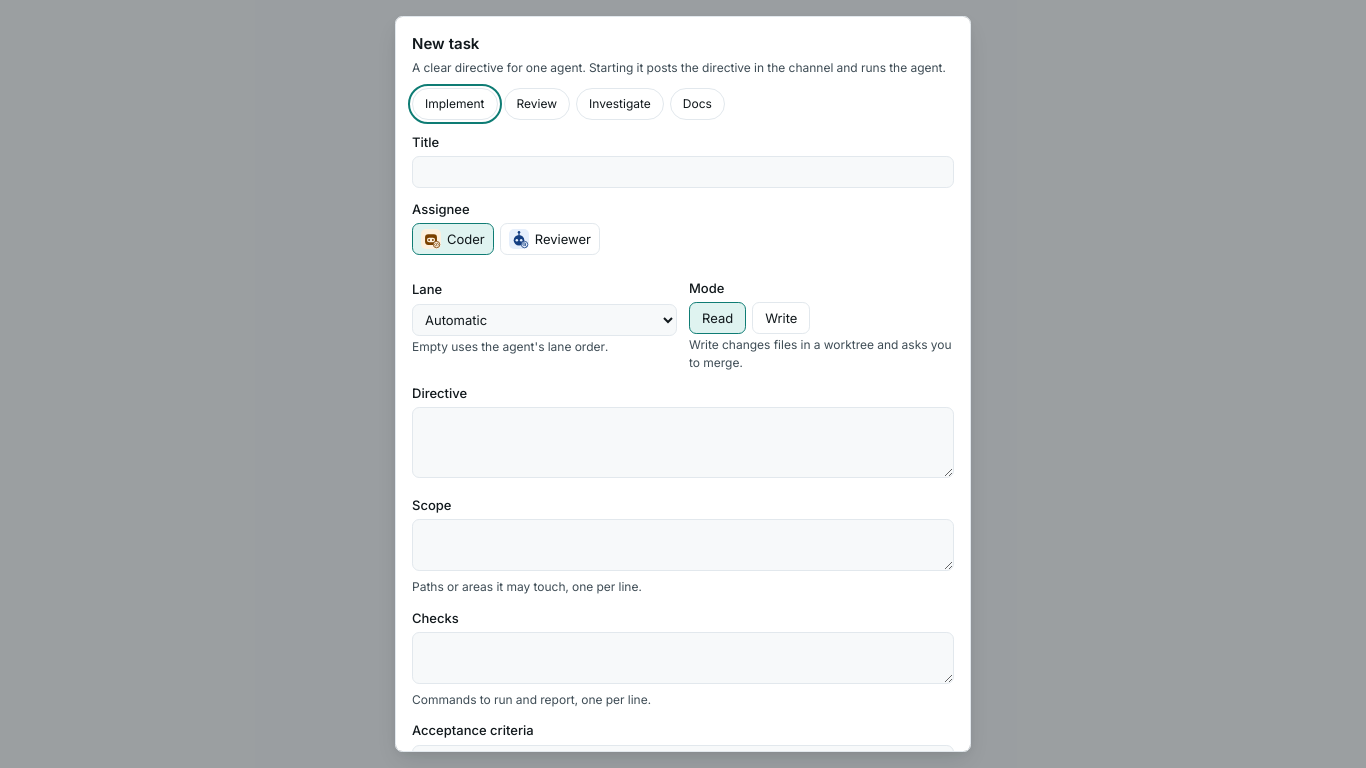
TaskBuilder › fills the form from a template
Click the button "Implement". click: [455, 104]
box: top-left (412, 88), bottom-right (498, 120)
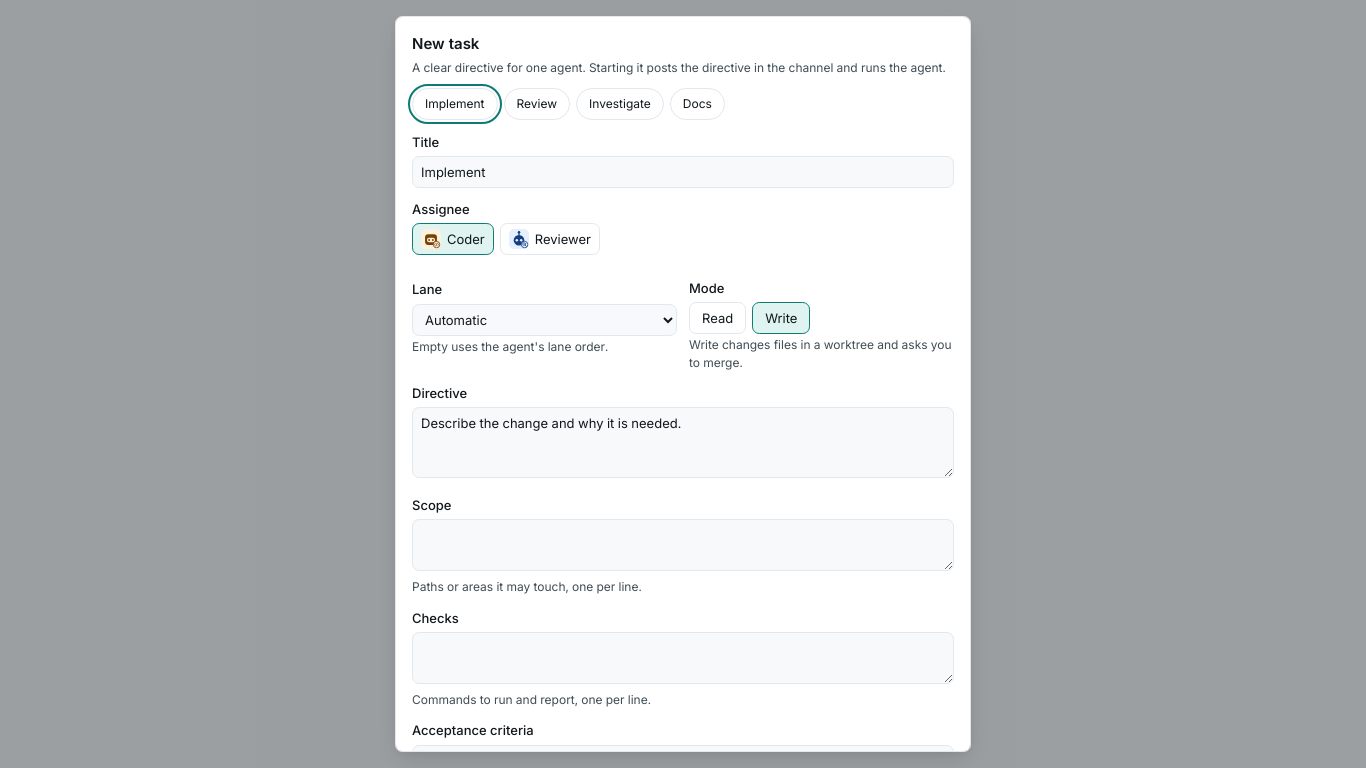
Result: the field labelled "Title" holds "Implement " at top-left (412, 156), bottom-right (954, 188)
Result: the radio button labelled "Write" is checked at top-left (752, 302), bottom-right (810, 334)
Click the button "Review". click: [537, 104]
box: top-left (504, 88), bottom-right (570, 120)
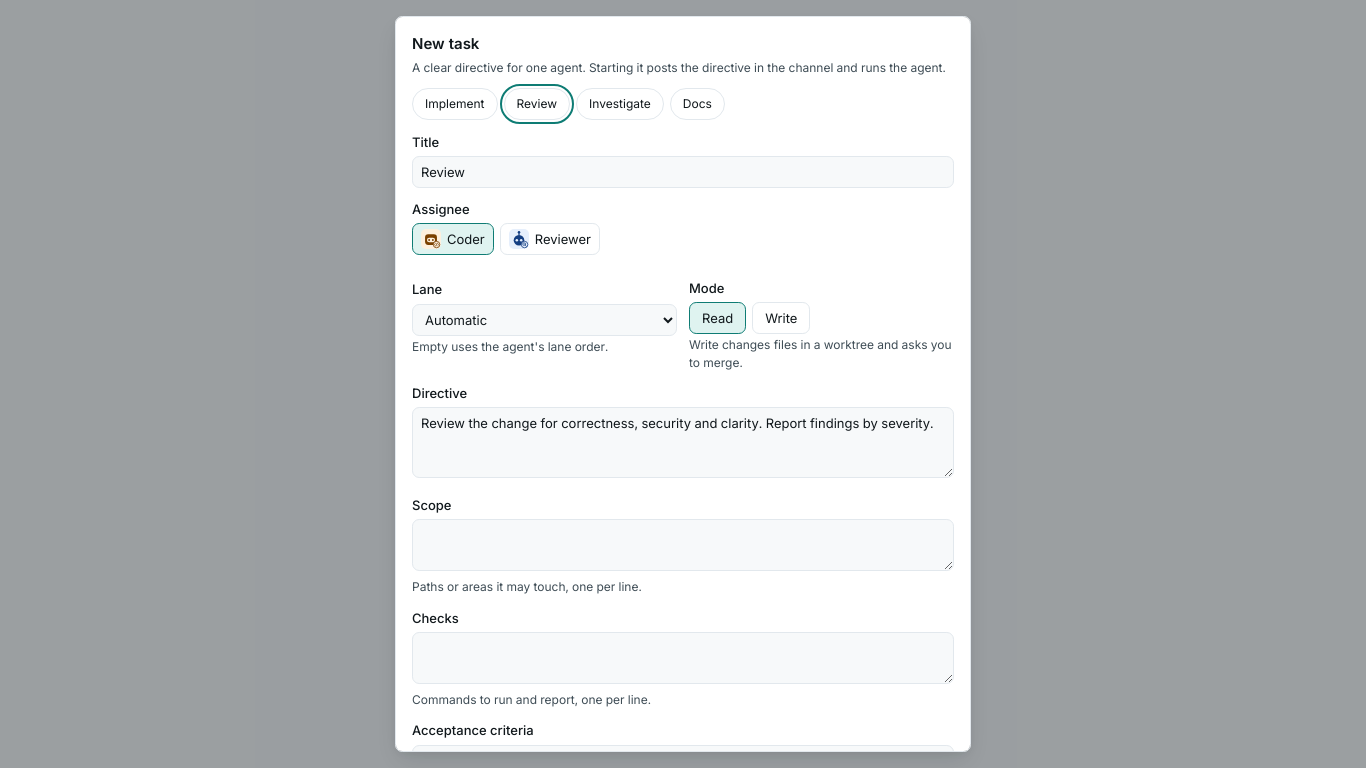
Result: the radio button labelled "Read" is checked at top-left (689, 302), bottom-right (746, 334)
